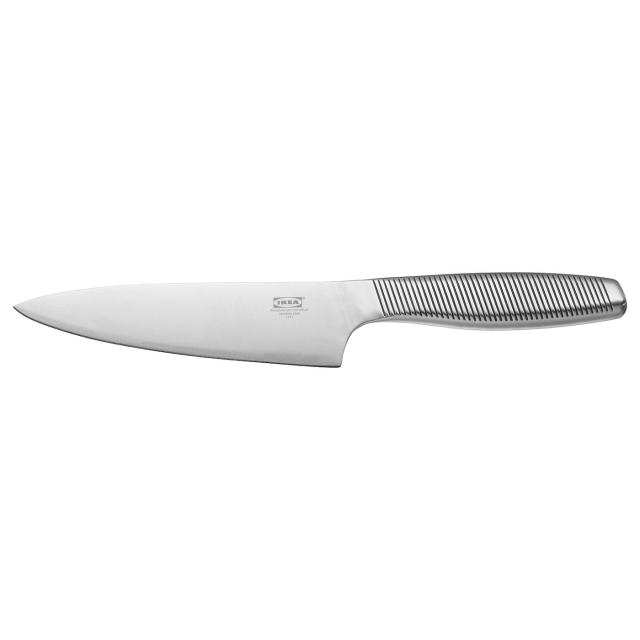Knife: (8, 264, 639, 412)
